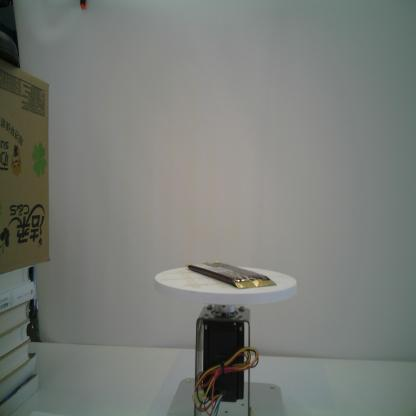Chocolate: (185, 260, 278, 291)
